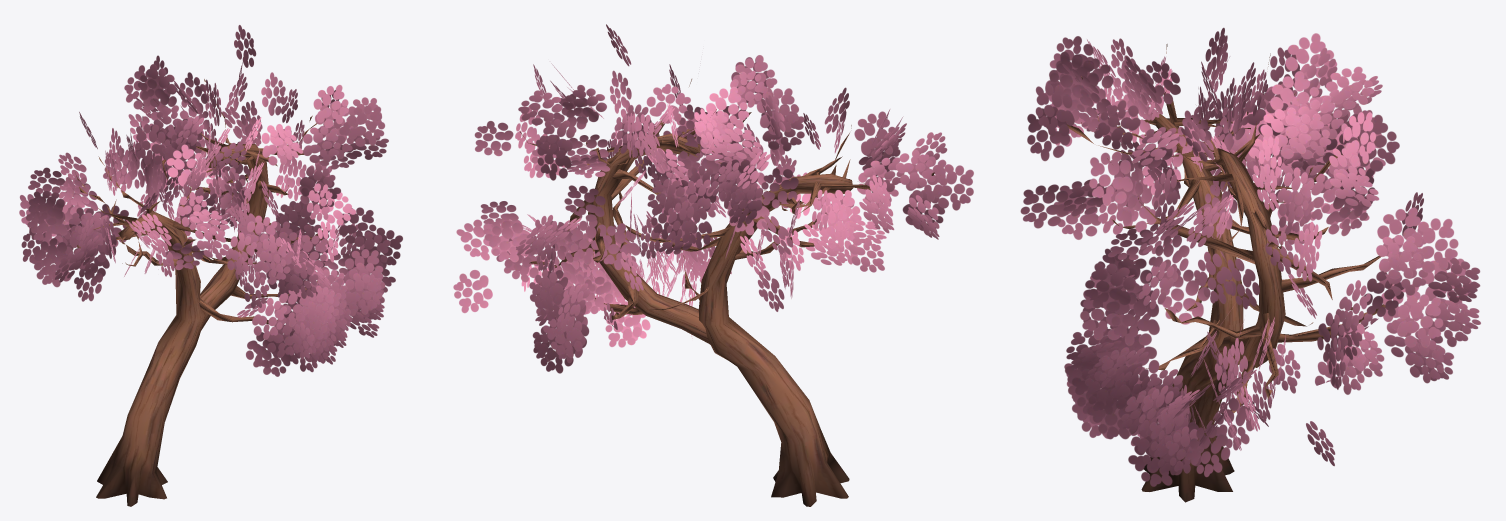
File: tree-wedding-3-mature.glb
3 views of the same model, side by side, from view 1: azimuth 30°, elevation 25°; view 2: azimuth 150°, elevation 25°; view 3: azimuth 270°, elevation 25° (orthographic). The views are drawn at different scales.
Visible parts, largest first — view 1: CherryBlossom_3; view 2: CherryBlossom_3; view 3: CherryBlossom_3.
Boxes of the visible parts, x1,y1,x2,y2 form: CherryBlossom_3: (19, 25, 402, 506); CherryBlossom_3: (453, 24, 973, 506); CherryBlossom_3: (1020, 27, 1480, 502).
Bounding box in the file's own units: 6.77 × 6.04 × 5.34.
Materials: 2 (2 with a texture image).
